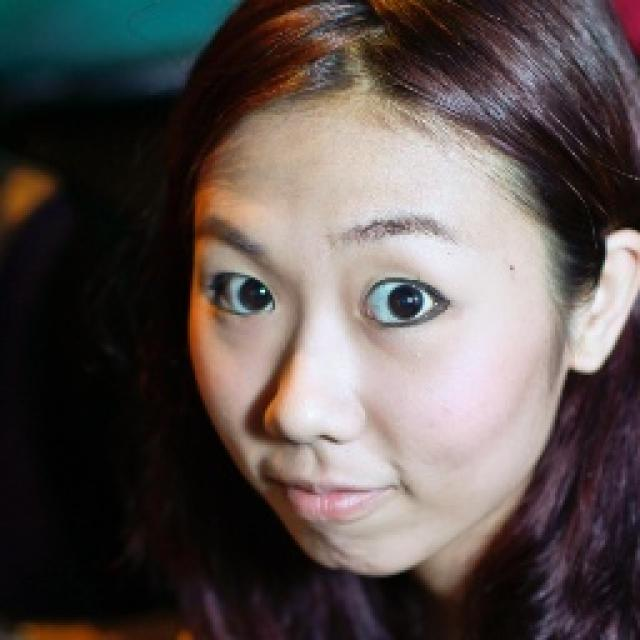earlobe: (566, 228, 640, 374)
